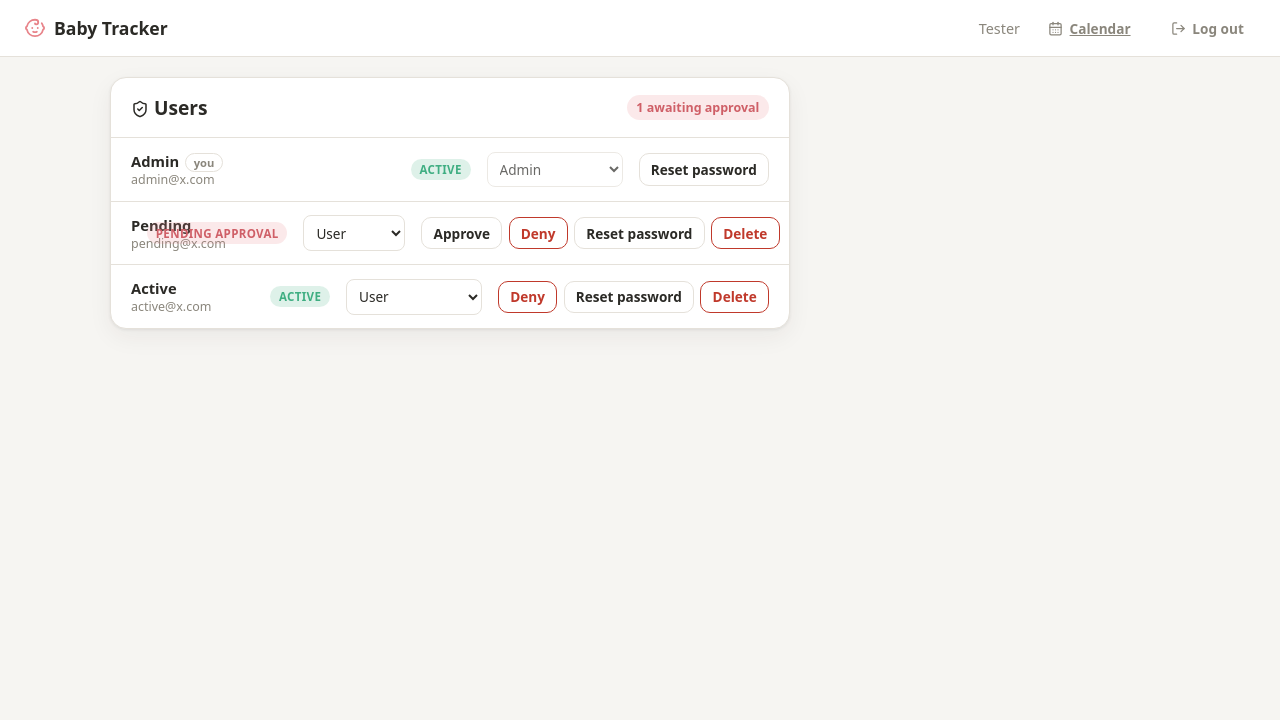
Scenario: AdminPage › validates passwords match in reset modal
The width and height of the screenshot is (1280, 720).
Click the button "Reset password" in the row of "Pending approval".
click(639, 233)  # box [574,217,705,249]
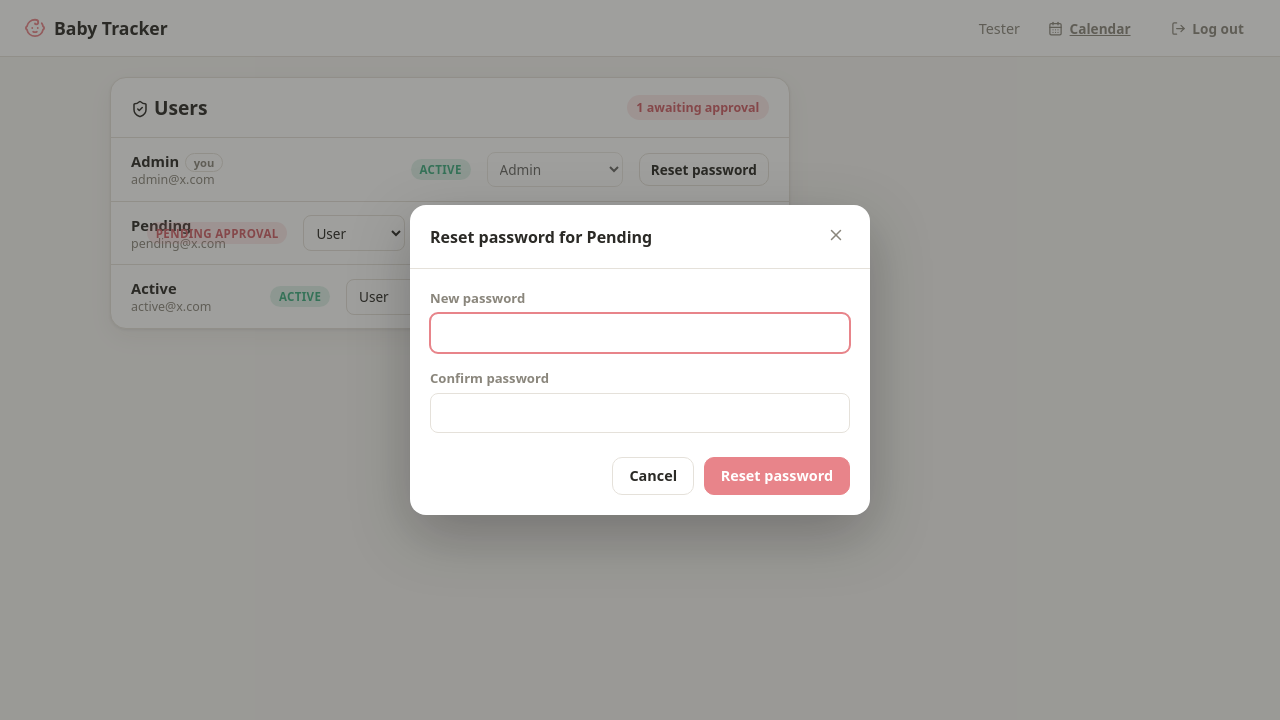
Type "newpass123" into the password field labelled "New password".
click(640, 333); type("newpass123")  # box [430,313,850,353]
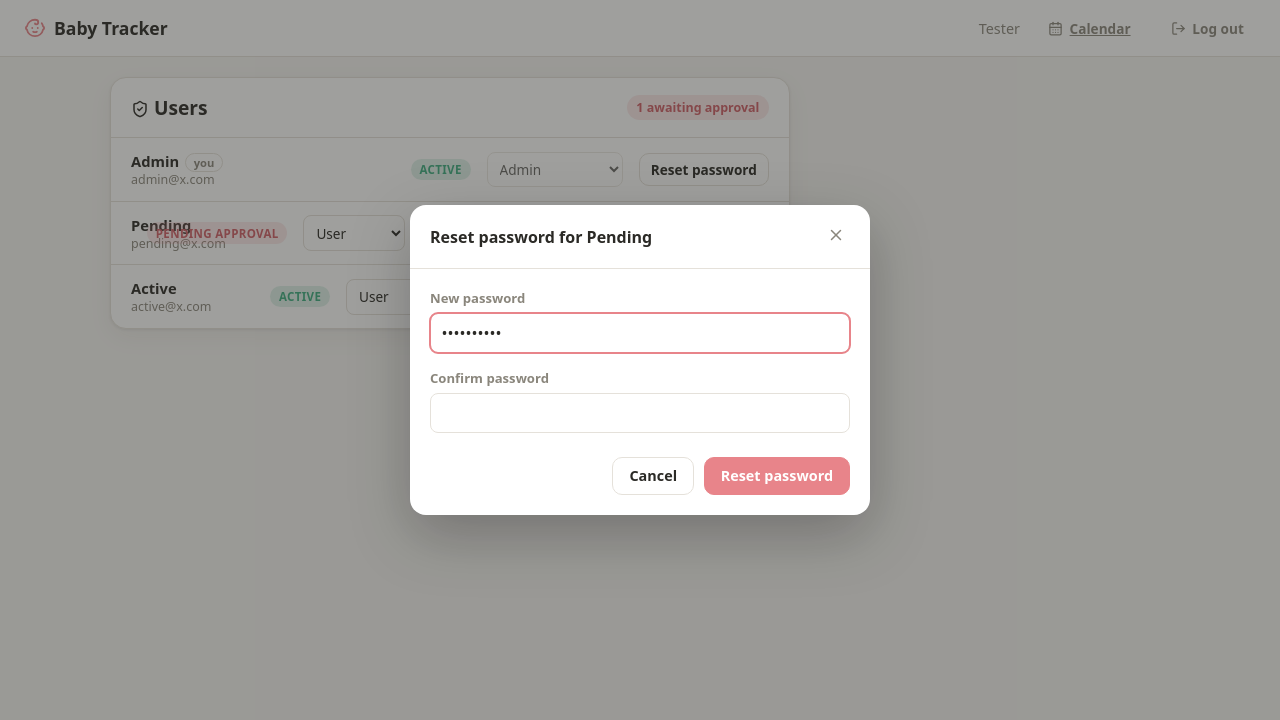
Type "different1" into the password field labelled "Confirm password".
click(640, 413); type("different1")  # box [430,393,850,433]
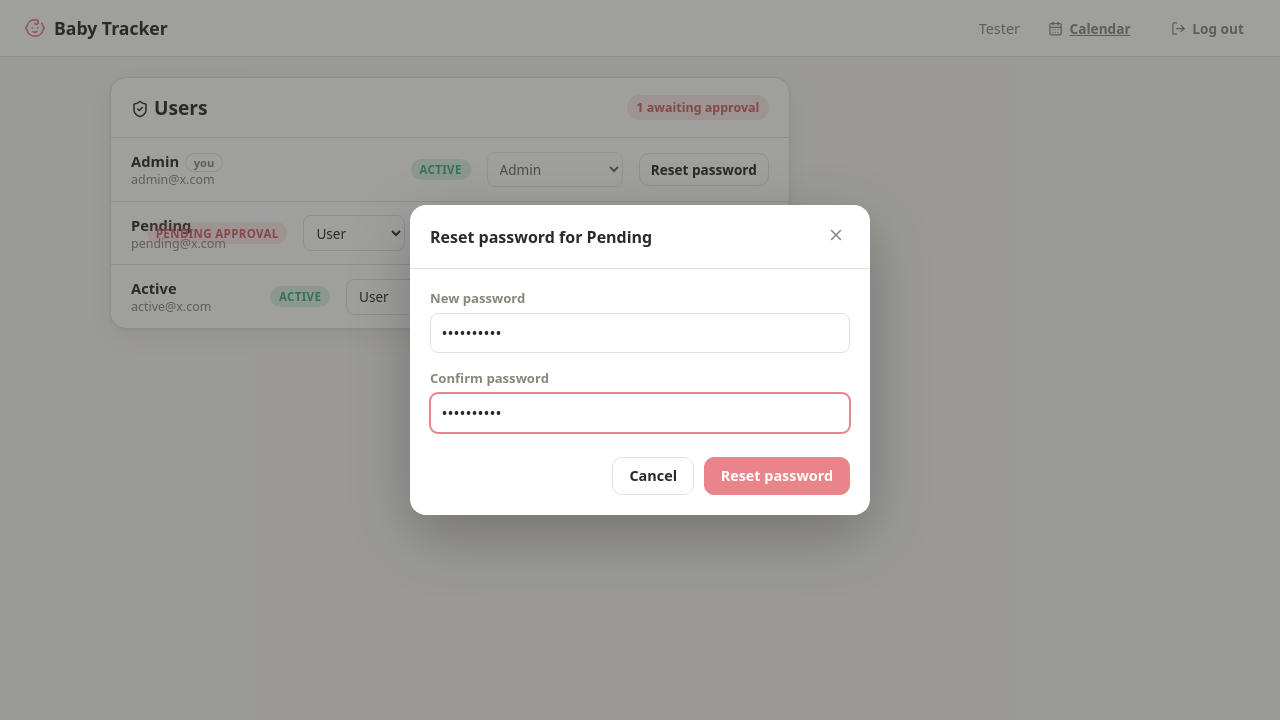
Click the button "Reset password".
click(777, 476)  # box [704,457,850,495]
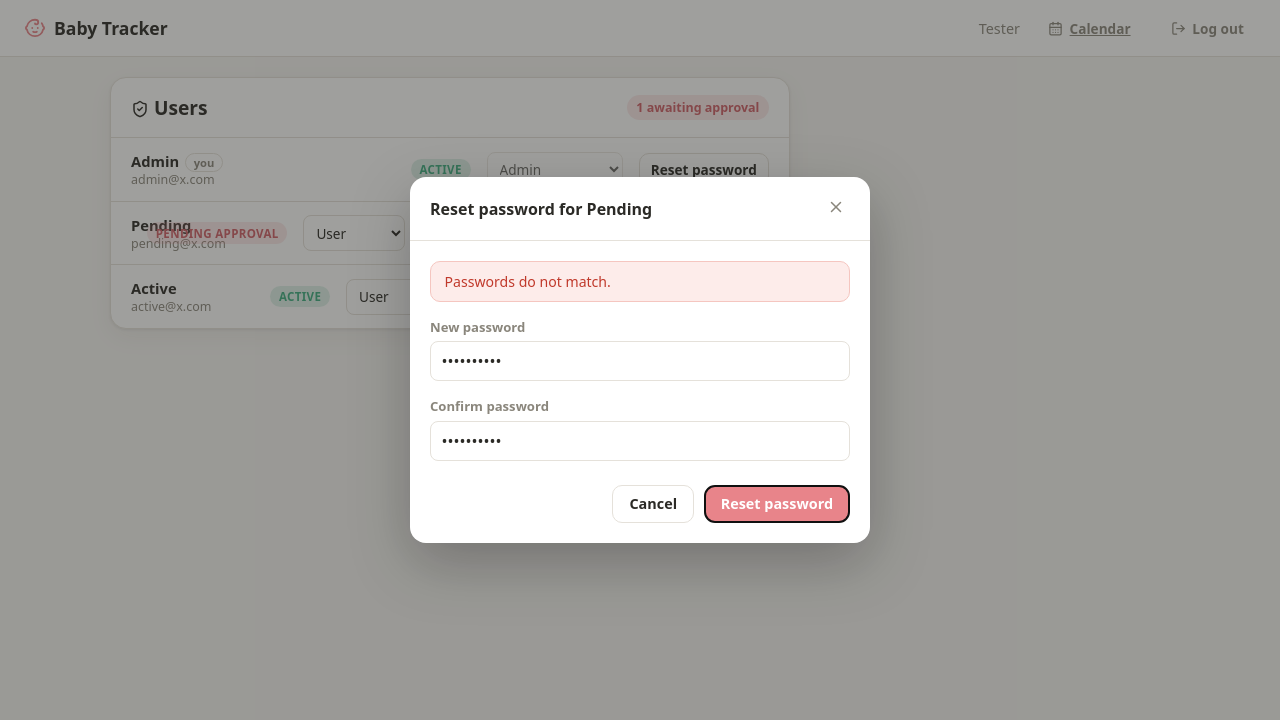
Check: the text "Passwords do not match." is shown, box [430,261,850,302]
